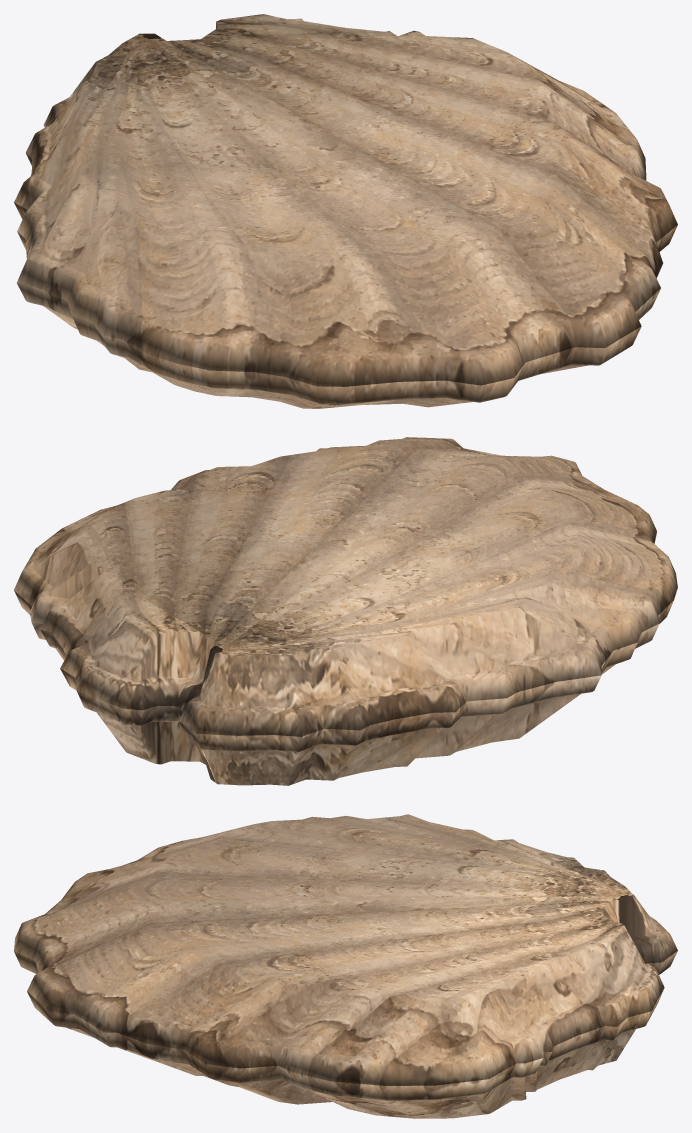
The model's file is Ctenostreon.glb.
3 views of the same model, one above another, from view 1: azimuth 30°, elevation 25°; view 2: azimuth 150°, elevation 25°; view 3: azimuth 270°, elevation 25° (orthographic). The views are drawn at different scales.
Parts seen in each view (by area): view 1: Ctenostreon; view 2: Ctenostreon; view 3: Ctenostreon.
Boxes of the visible parts, x1=… form: Ctenostreon: x1=14, y1=14, x2=677, y2=408; Ctenostreon: x1=14, y1=437, x2=677, y2=785; Ctenostreon: x1=14, y1=814, x2=677, y2=1118.
Bounding box in the file's own units: 1.46 × 0.3322 × 1.67.
1 material, 1 textured.
